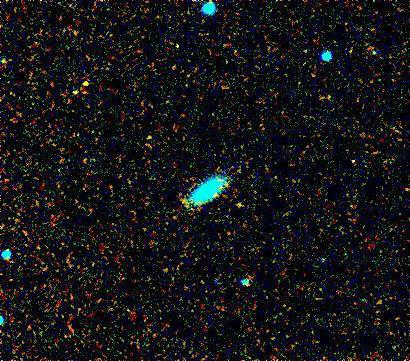star: (219, 189, 249, 219)
